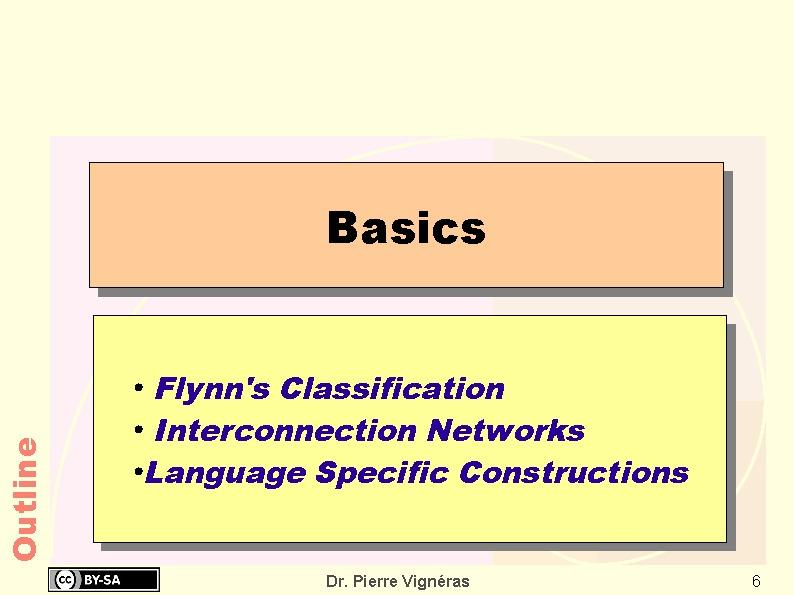paragraph: (123, 350, 709, 516)
title: (314, 199, 502, 268)
